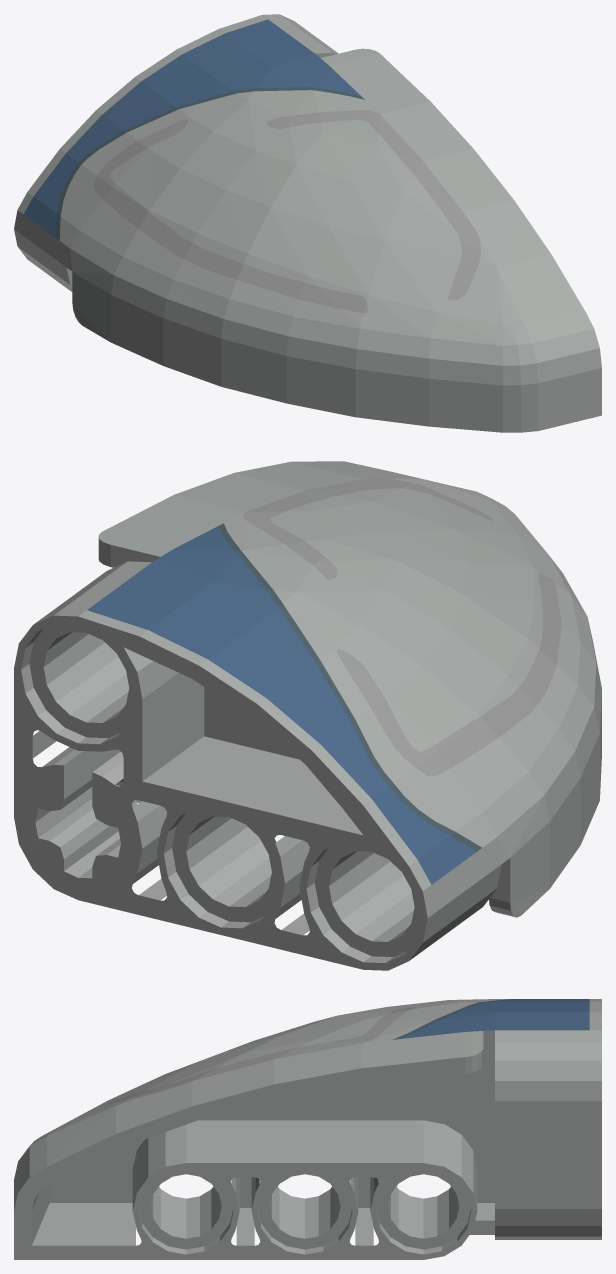
The picture shows the model from 3 angles, top to bottom: view 1: azimuth 30°, elevation 25°; view 2: azimuth 150°, elevation 25°; view 3: azimuth 270°, elevation 25°; orthographic projection. The views are drawn at different scales.
Parts seen in each view (by area): view 1: world; view 2: world; view 3: world.
Boxes of the visible parts, x1,y1,x2,y2 form: world: [14, 14, 601, 432]; world: [14, 461, 601, 970]; world: [14, 999, 601, 1259].
Bounding box in the file's own units: 0.0236 × 0.0152 × 0.0396.
